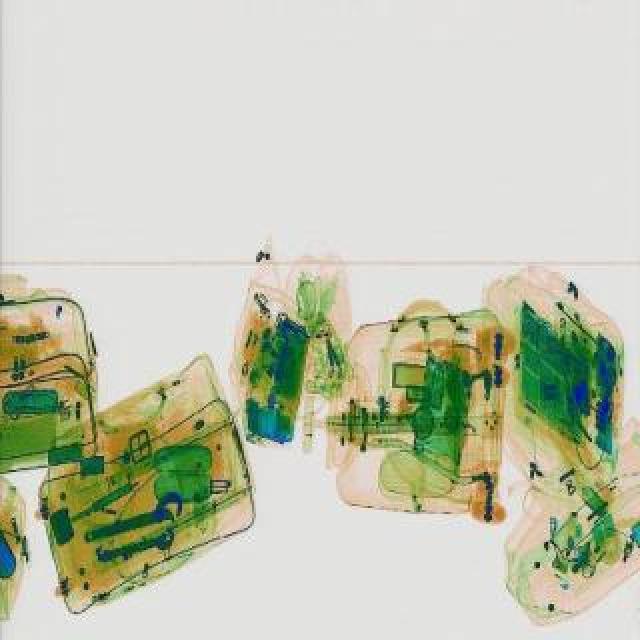scissors: (96, 524, 176, 564)
